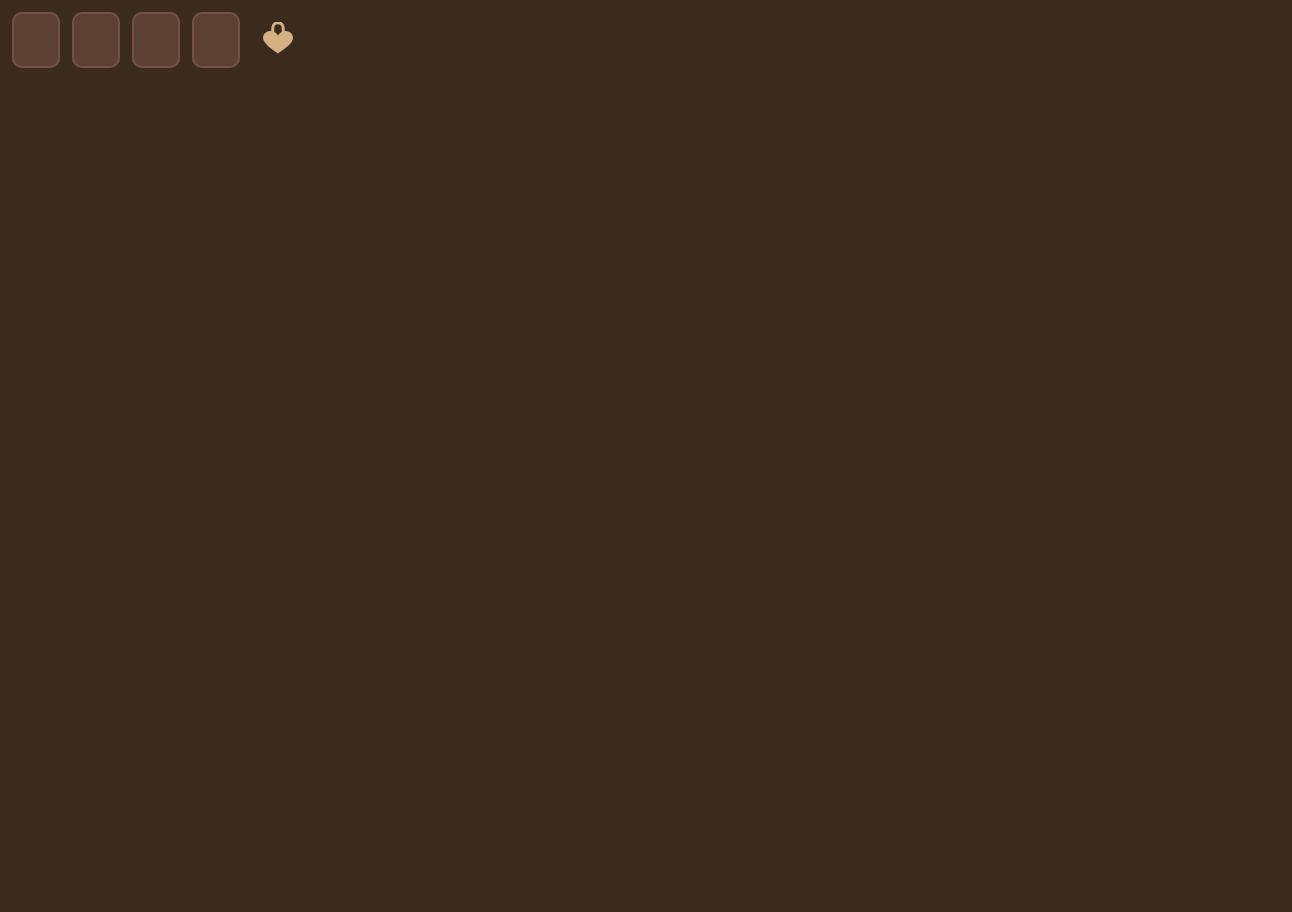
Scenario: shows champagne overlay after successful submission
Type "1" into the field named "Digit 1". click: (36,40)
box: [12,12,60,68]
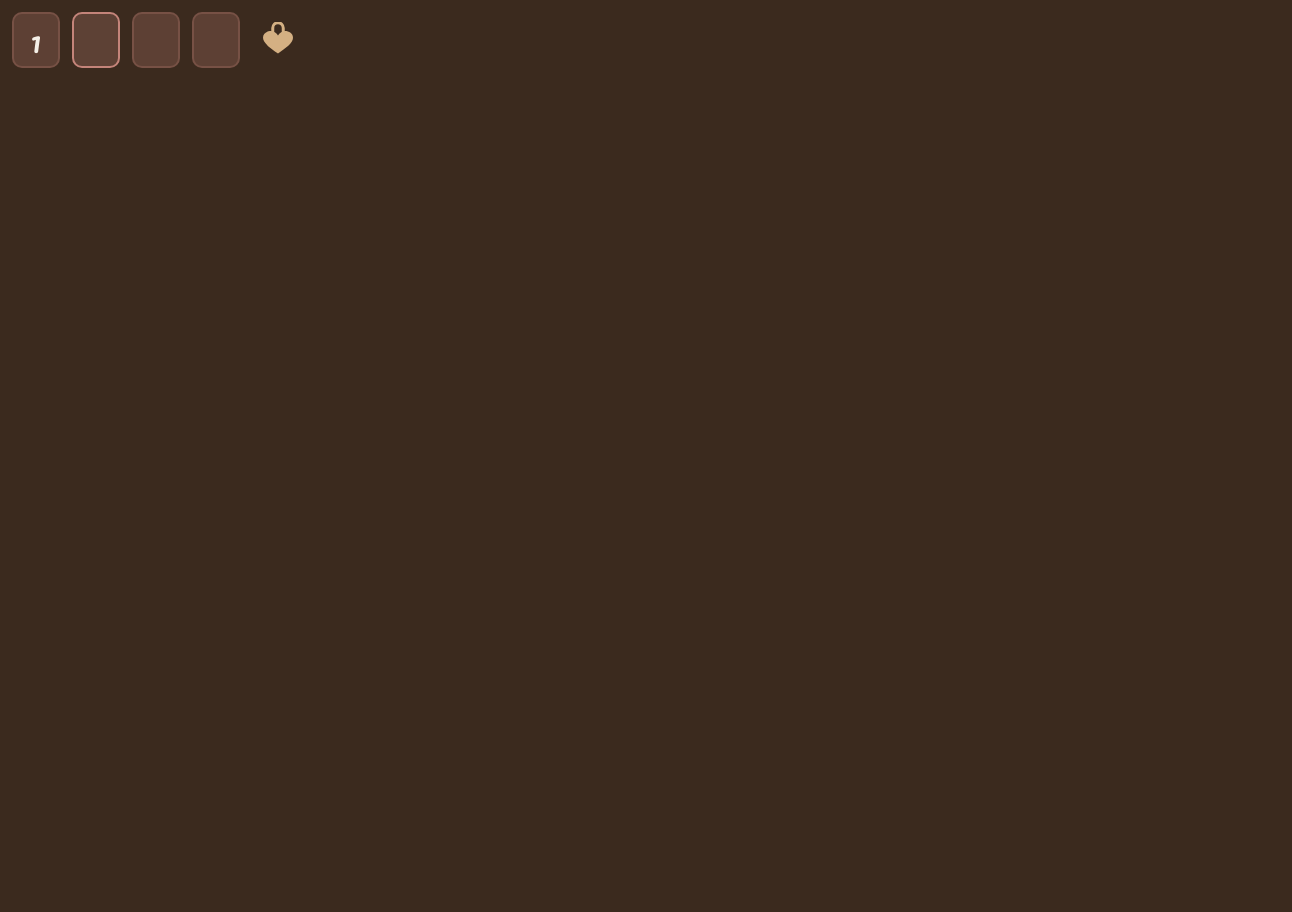
Type "4" into the field named "Digit 2". click: (96,40)
box: [72,12,120,68]
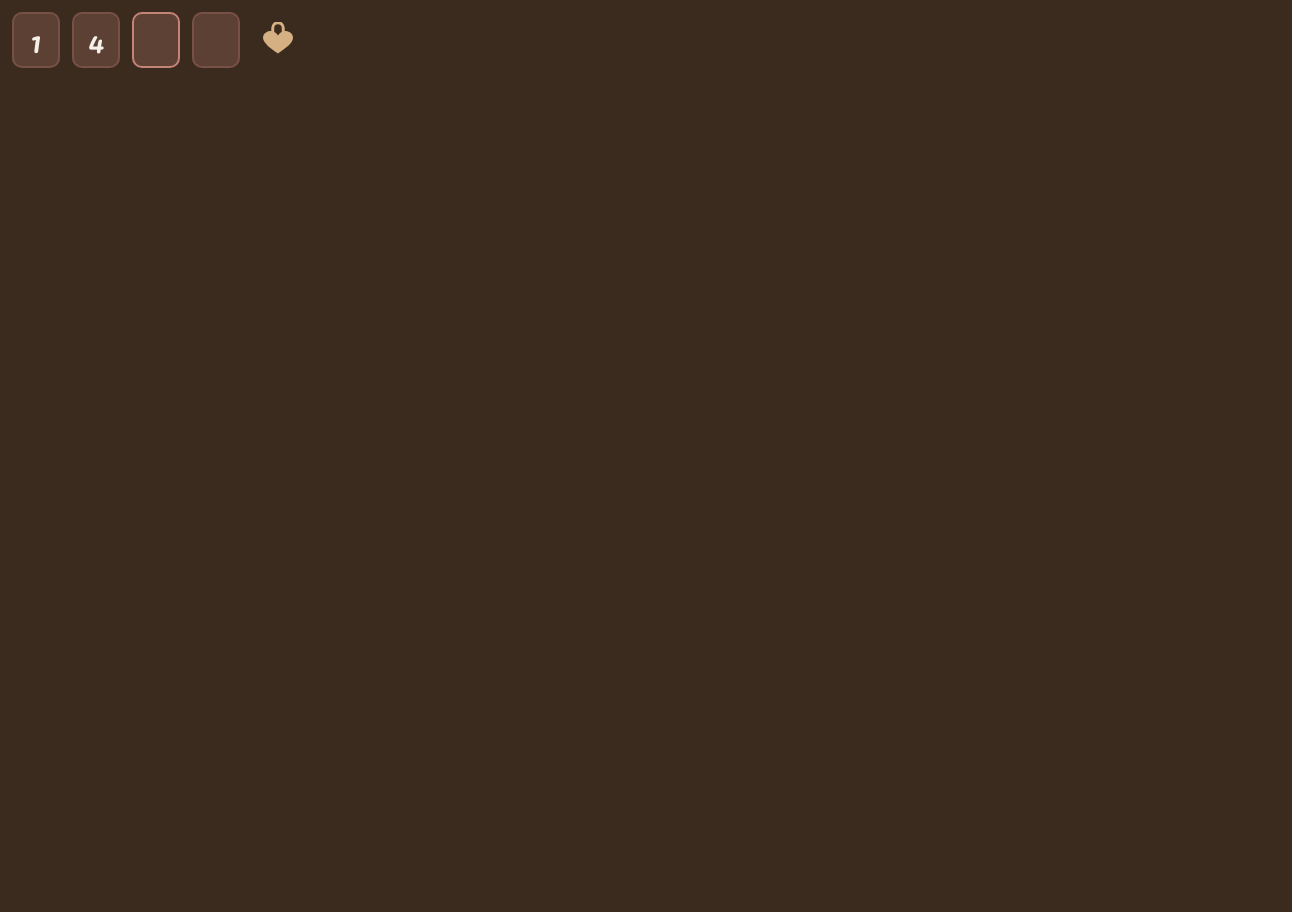
Type "8" into the field named "Digit 3". click: (156,40)
box: [132,12,180,68]
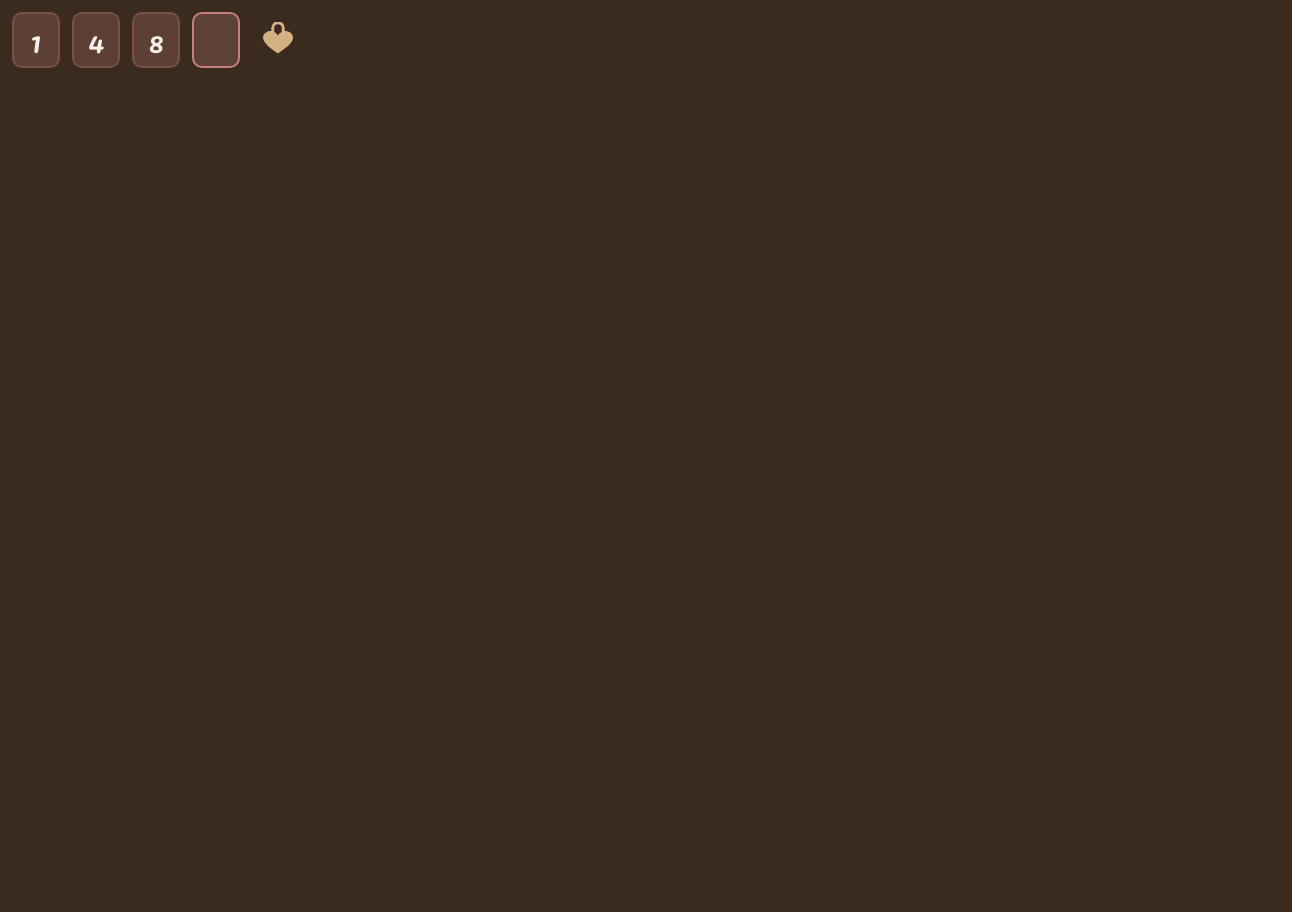
Type "9" into the field named "Digit 4". click: (216,40)
box: [192,12,240,68]
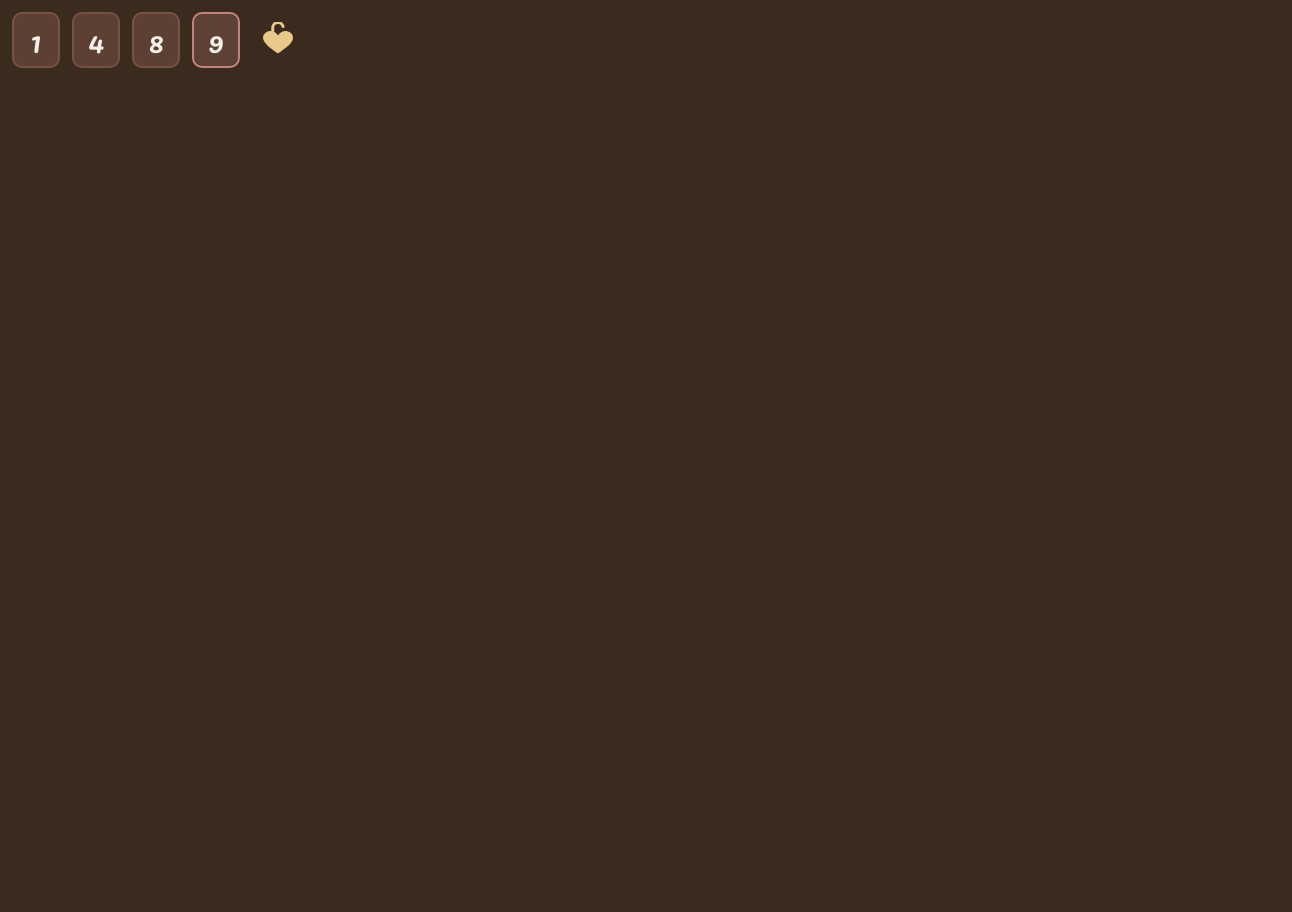
Click the button named "unlock". click: (278,40)
box: [252,14,304,66]
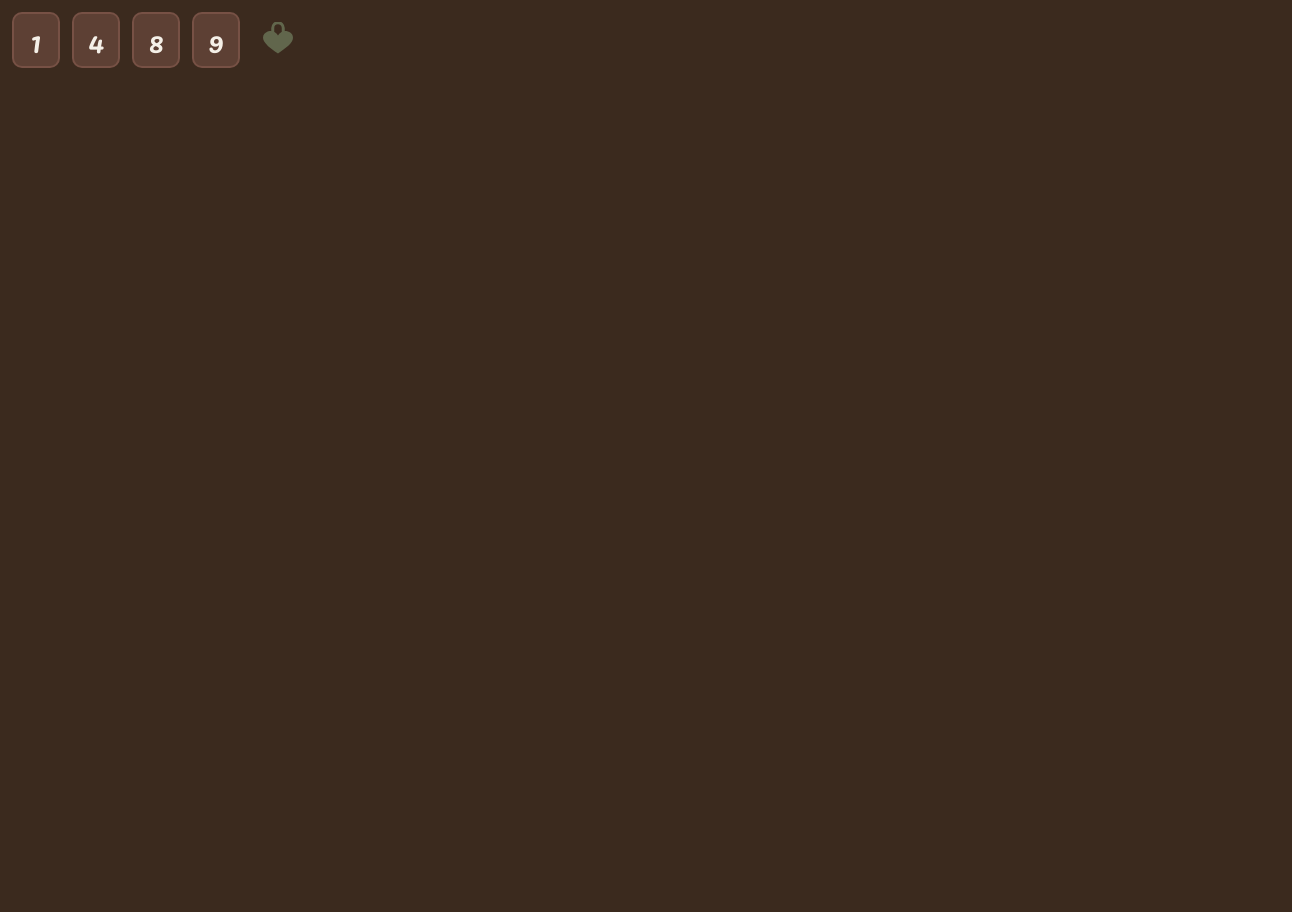
Result: the element with test id "champagne-pop" is shown
